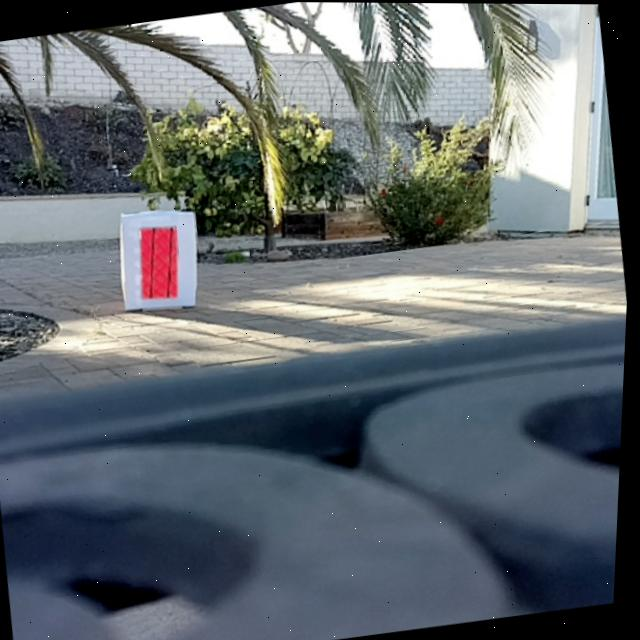led: (135, 222, 190, 303)
